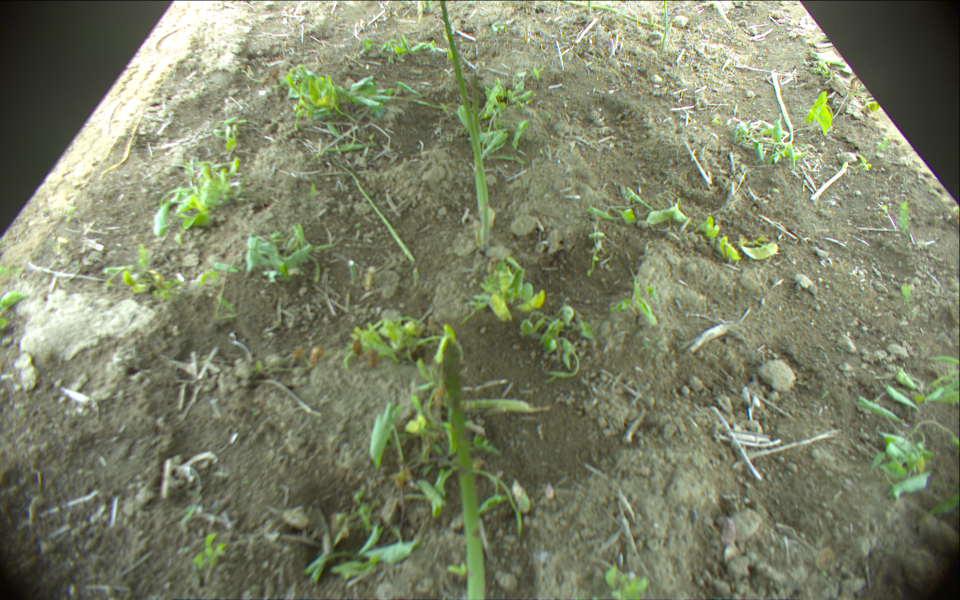aspa: (437, 1, 491, 253), (442, 340, 486, 600), (326, 153, 418, 266), (557, 1, 667, 31), (773, 73, 796, 145), (474, 73, 484, 219), (660, 1, 669, 47), (586, 1, 593, 13)
